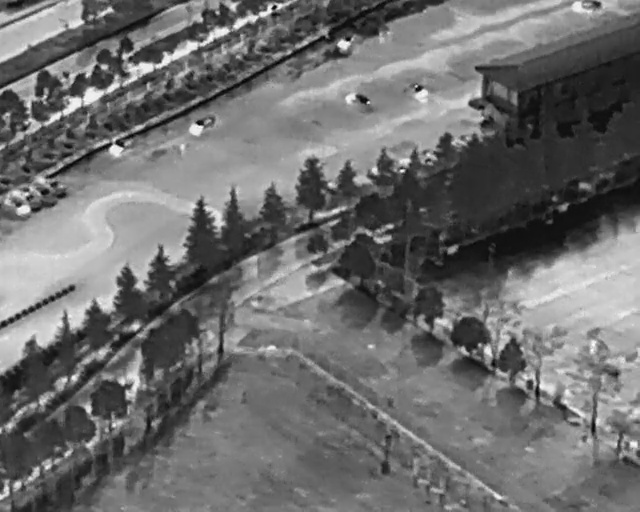Car: (340, 84, 377, 122), (0, 187, 36, 223), (186, 108, 220, 143), (26, 179, 58, 210), (17, 187, 47, 216), (405, 78, 434, 106), (106, 134, 136, 161), (337, 31, 357, 53), (42, 181, 67, 195)
Person: (586, 337, 597, 355)
